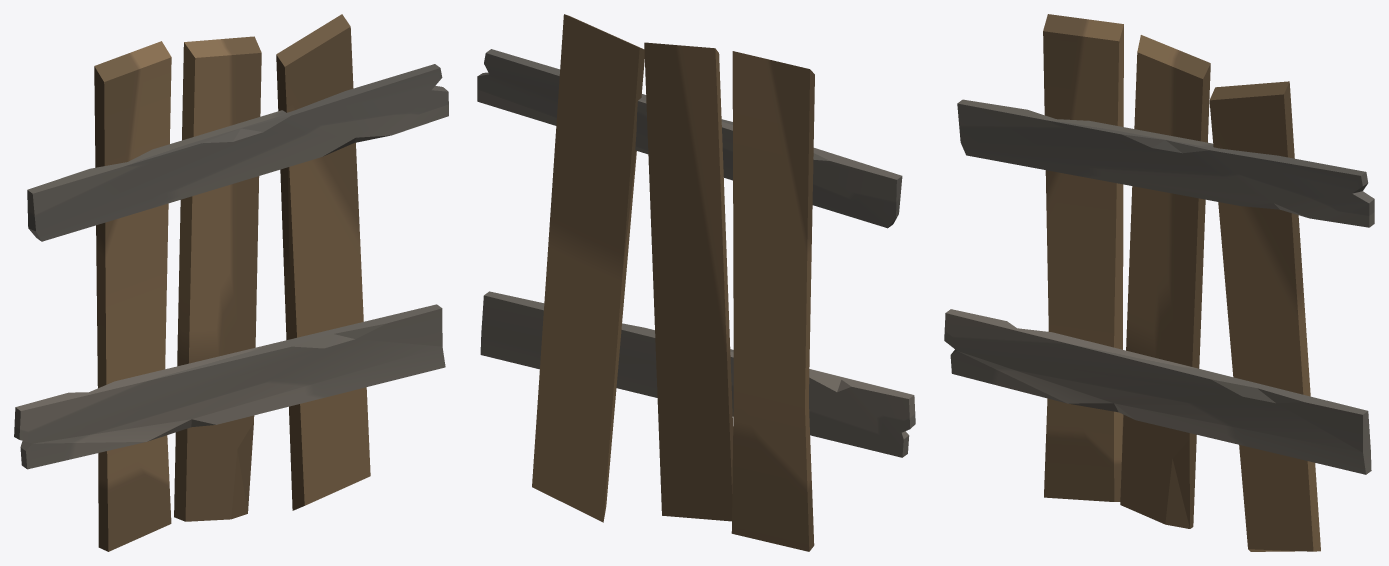
Rendered from SM_Prop_Barricade_12.obj.
3 renders of one model, left to right at view 1: azimuth 30°, elevation 25°; view 2: azimuth 150°, elevation 25°; view 3: azimuth 330°, elevation 25°, orthographic.
Parts seen in each view (by area): view 1: SM_Prop_Barricade_12_0; view 2: SM_Prop_Barricade_12_0; view 3: SM_Prop_Barricade_12_0.
Part boxes in pixels (x1=…): SM_Prop_Barricade_12_0: x1=14, y1=14, x2=448, y2=551; SM_Prop_Barricade_12_0: x1=477, y1=14, x2=915, y2=551; SM_Prop_Barricade_12_0: x1=944, y1=14, x2=1374, y2=551.
Bounding box in the file's own units: 1.42 × 1.58 × 0.1222.
Materials: 1 (1 with a texture image).
